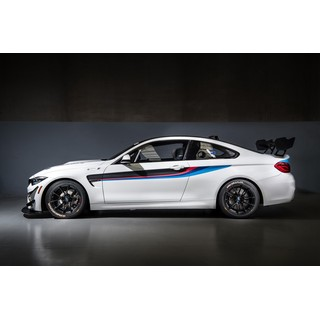car: (23, 136, 296, 218)
